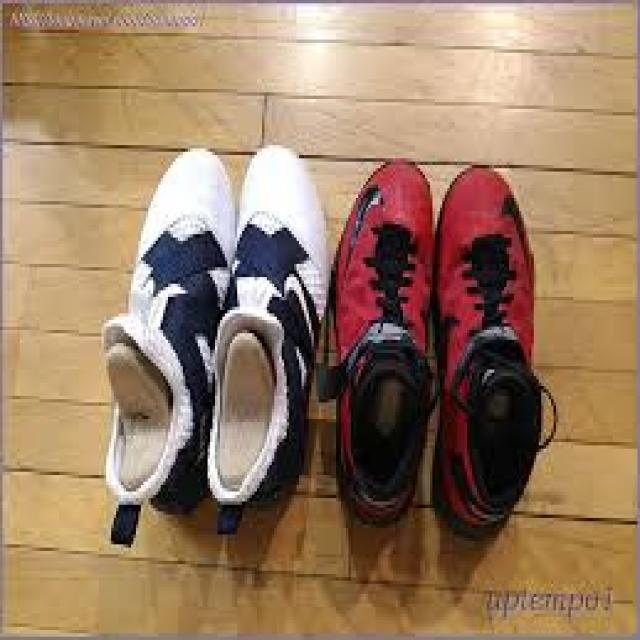shoe: (104, 148, 237, 548), (208, 145, 329, 518), (432, 168, 544, 541), (331, 162, 432, 528)
